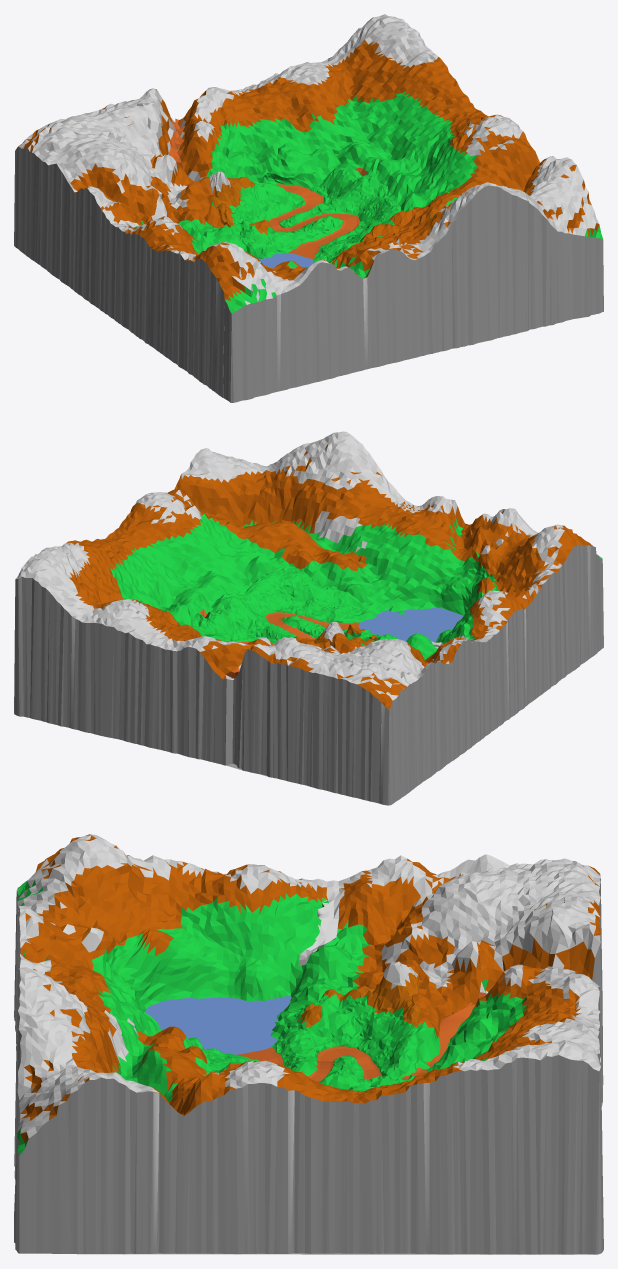
File: forrestMap01ForMenu.fbx
3 renders of one model, top to bottom at view 1: azimuth 30°, elevation 25°; view 2: azimuth 150°, elevation 25°; view 3: azimuth 270°, elevation 25°, orthographic. The views are drawn at different scales.
Visible parts, largest first — view 1: Plane.001, terrain, Plane; view 2: Plane.001, terrain, water, Plane; view 3: Plane.001, terrain, water, Plane.
Boxes of the visible parts, left/top/right/bottom form: Plane.001: left=14, top=14, right=603, bottom=402; terrain: left=209, top=167, right=402, bottom=262; Plane: left=268, top=184, right=360, bottom=259; Plane.001: left=14, top=431, right=603, bottom=805; terrain: left=202, top=564, right=380, bottom=645; water: left=358, top=607, right=463, bottom=642; Plane: left=238, top=612, right=359, bottom=644; Plane.001: left=14, top=834, right=603, bottom=1254; terrain: left=203, top=961, right=421, bottom=1083; water: left=145, top=996, right=291, bottom=1054; Plane: left=236, top=1002, right=475, bottom=1081.
Bounding box in the file's own units: 13104 × 5072 × 13065.
